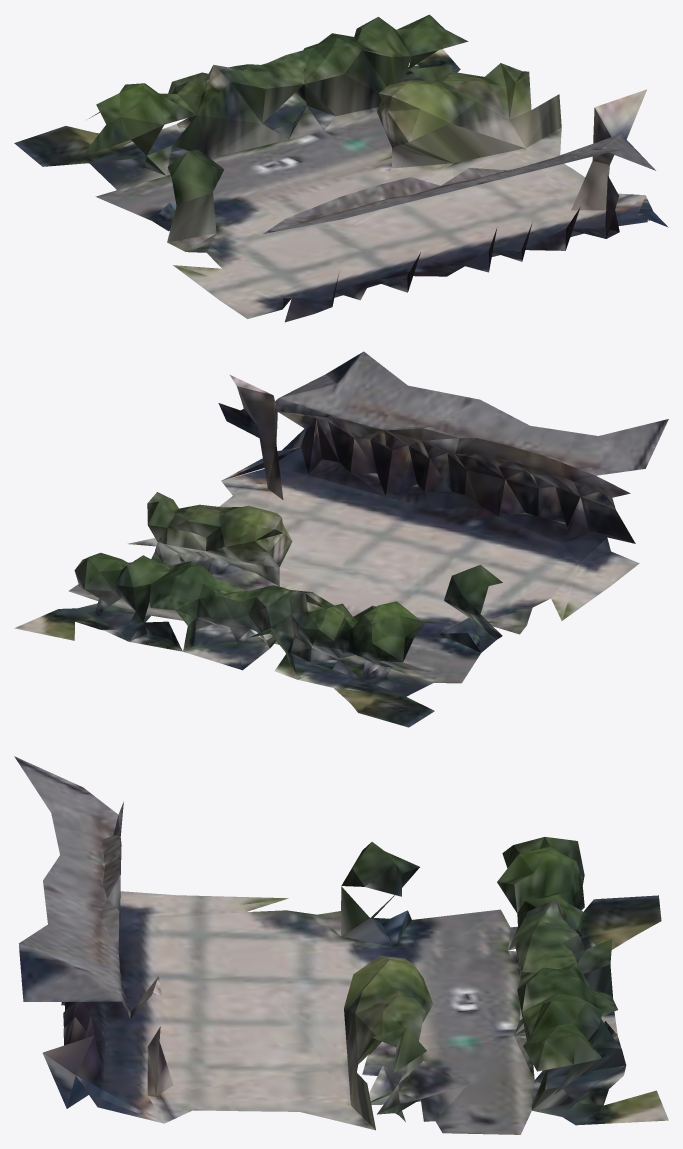
File: Tile_+006_+000_L17_00.glb
3 views of the same model, one above another, from view 1: azimuth 30°, elevation 25°; view 2: azimuth 150°, elevation 25°; view 3: azimuth 270°, elevation 25° (orthographic). The views are drawn at different scales.
Bounding box in the file's own units: 48.38 × 14.19 × 55.5.
Materials: 1 (1 with a texture image).
